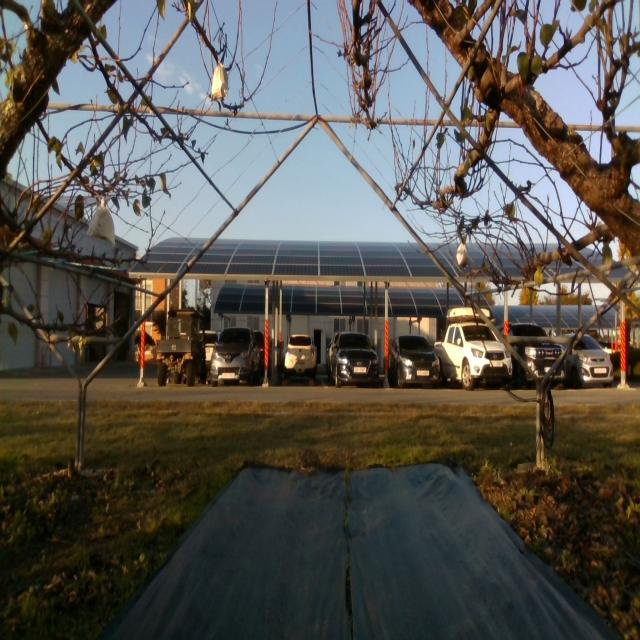pearbags: (87, 206, 115, 247), (210, 64, 228, 101), (456, 242, 467, 265)
